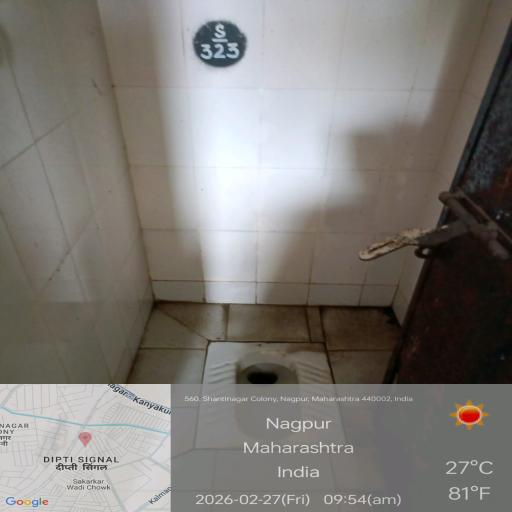clean_floor: (96, 0, 455, 290), (6, 67, 86, 372)
dirty_floor: (121, 296, 408, 387)
partial_dirty_indian: (199, 339, 339, 385)
